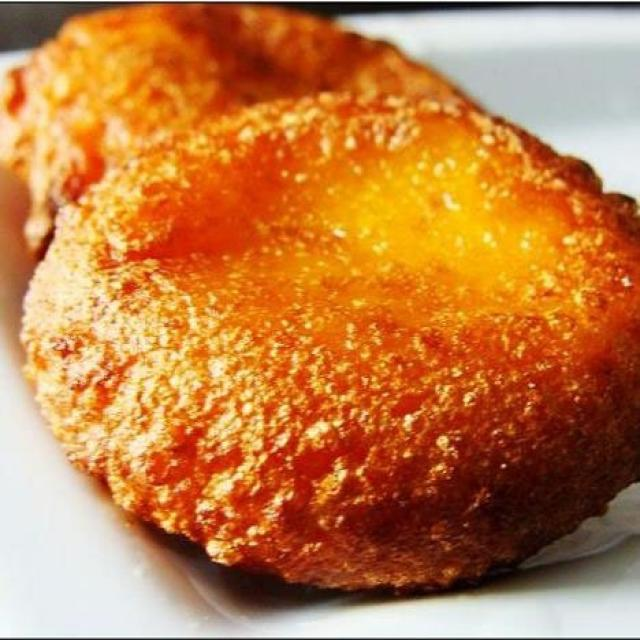炸货点心: (3, 4, 632, 632)
蛋糕甜品: (3, 4, 632, 632)
